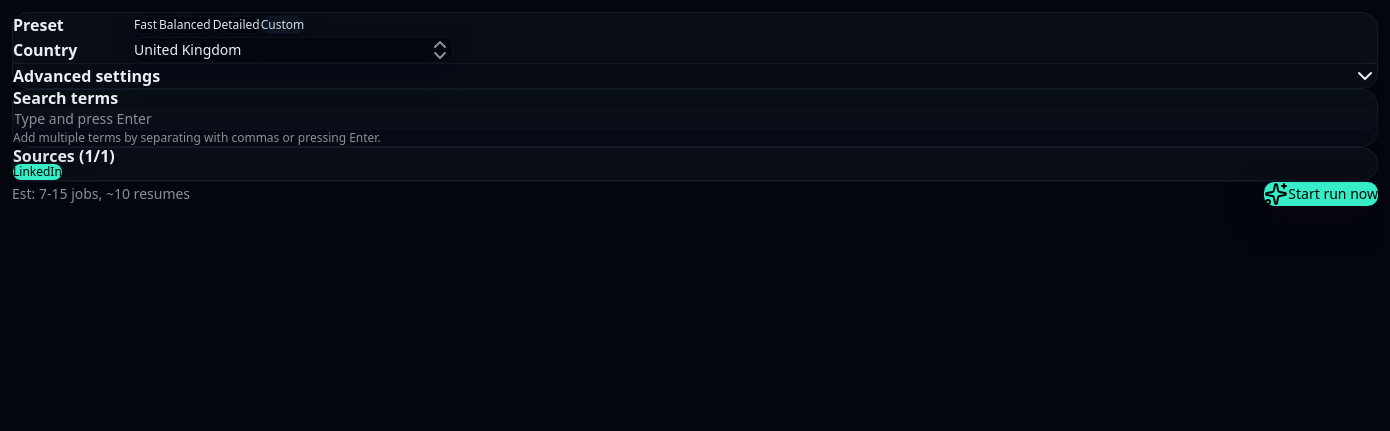
Test case: AutomaticRunTab › requires at least one workplace type
Click the button "Advanced settings": click(87, 76) [13,64,1377,88]
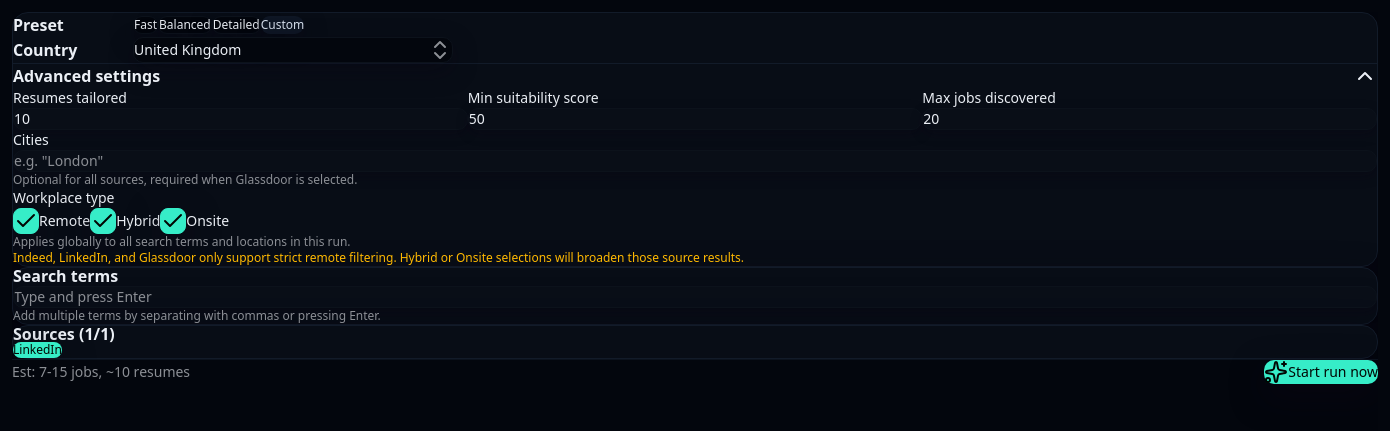
Click the 1st checkbox named "Remote": click(26, 221) [13,208,39,234]
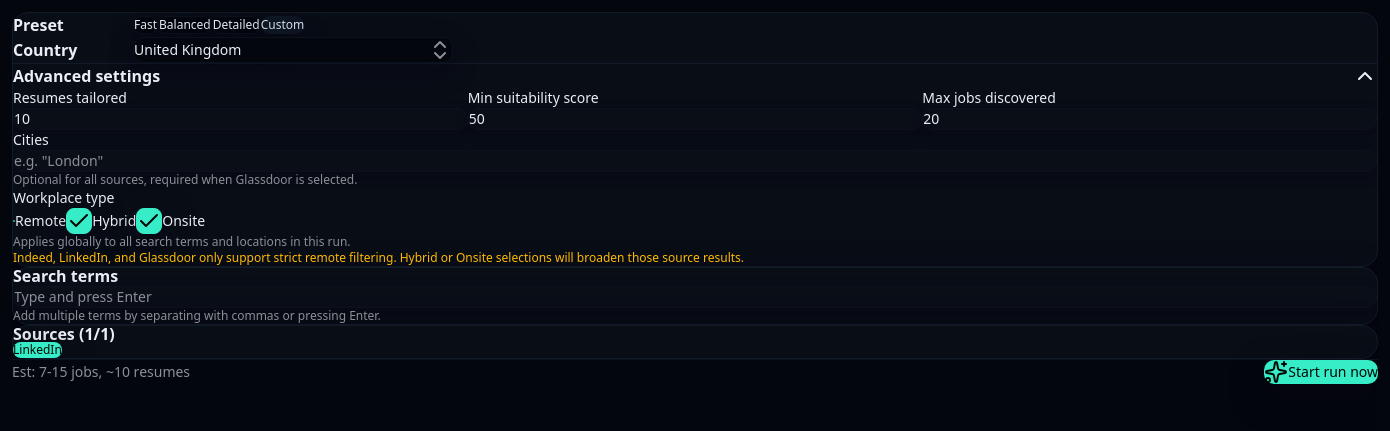
Click the 2nd checkbox named "Hybrid": click(79, 221) [66,208,92,234]
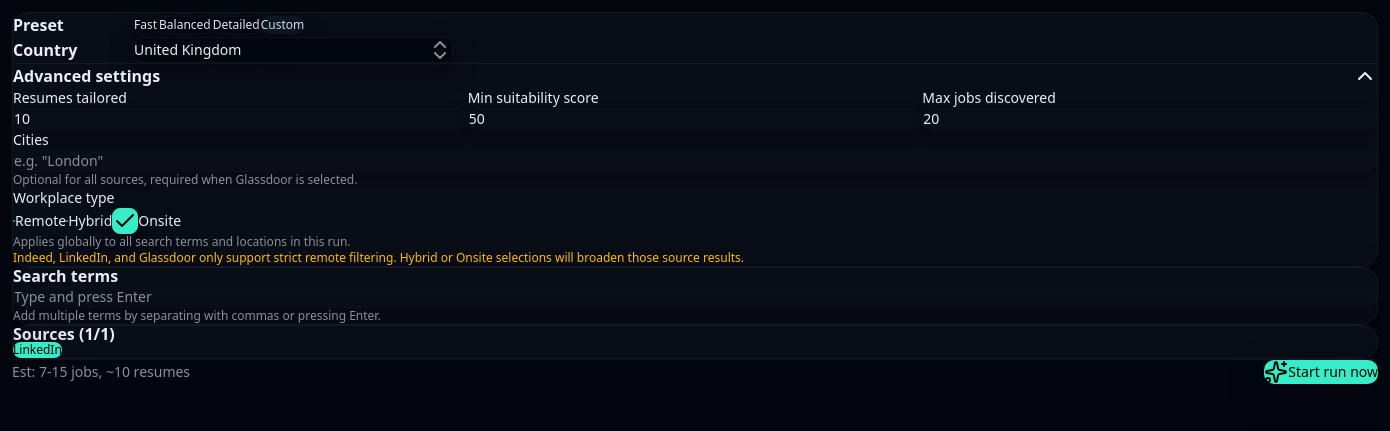
Click the 3rd checkbox named "Onsite": click(125, 221) [112,208,138,234]
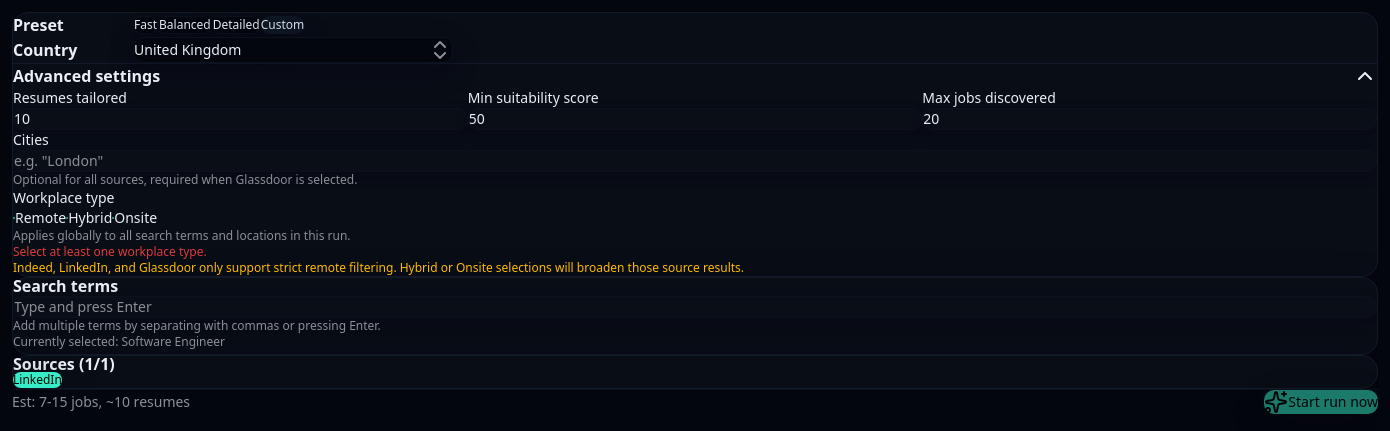
Check: the text "Select at least one workplace type." is shown, box [13,243,207,260]
Check: the button "Start run now" is disabled, box [1264,390,1378,414]
